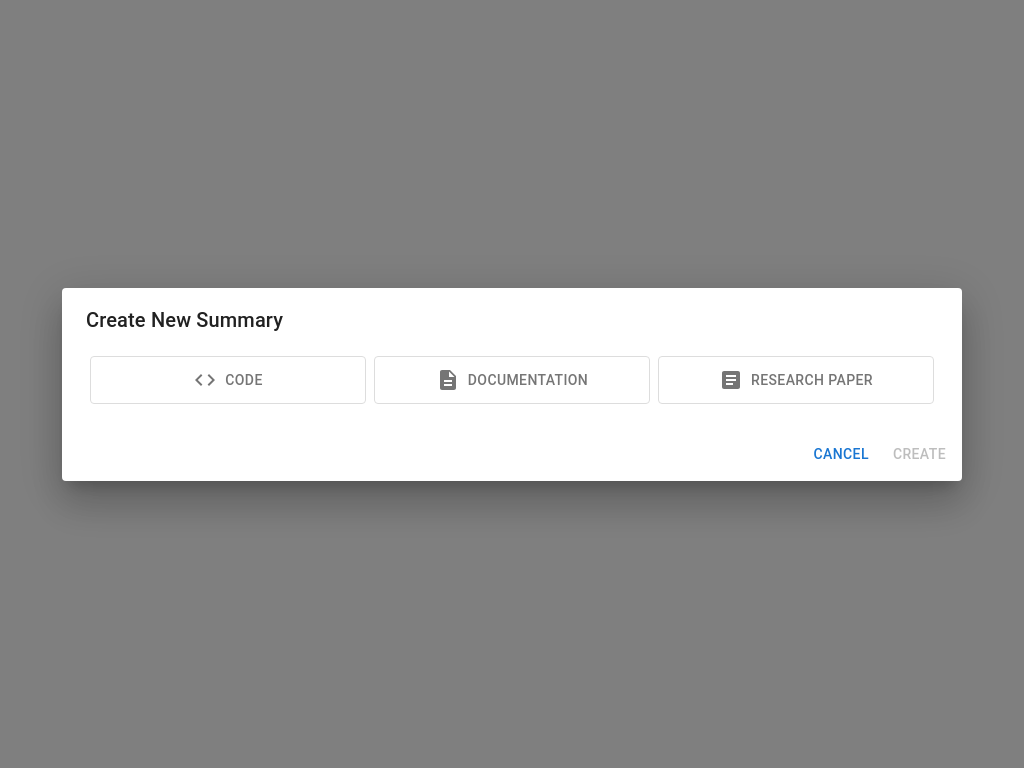
Test: NewSummaryDialog Form Submission › displays loading state during submission
The width and height of the screenshot is (1024, 768).
Fill form
Click the button "Code" at [228, 380], box [90,356,366,404]
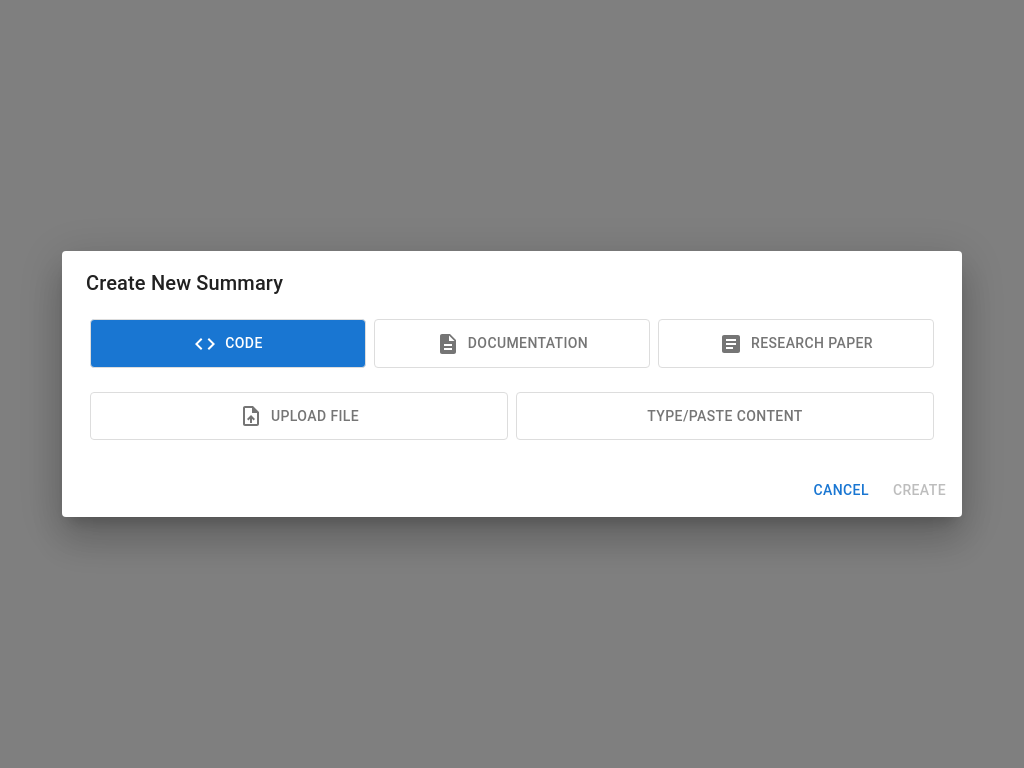
Click the button "Type/Paste Content" at [725, 416], box [516,392,934,440]
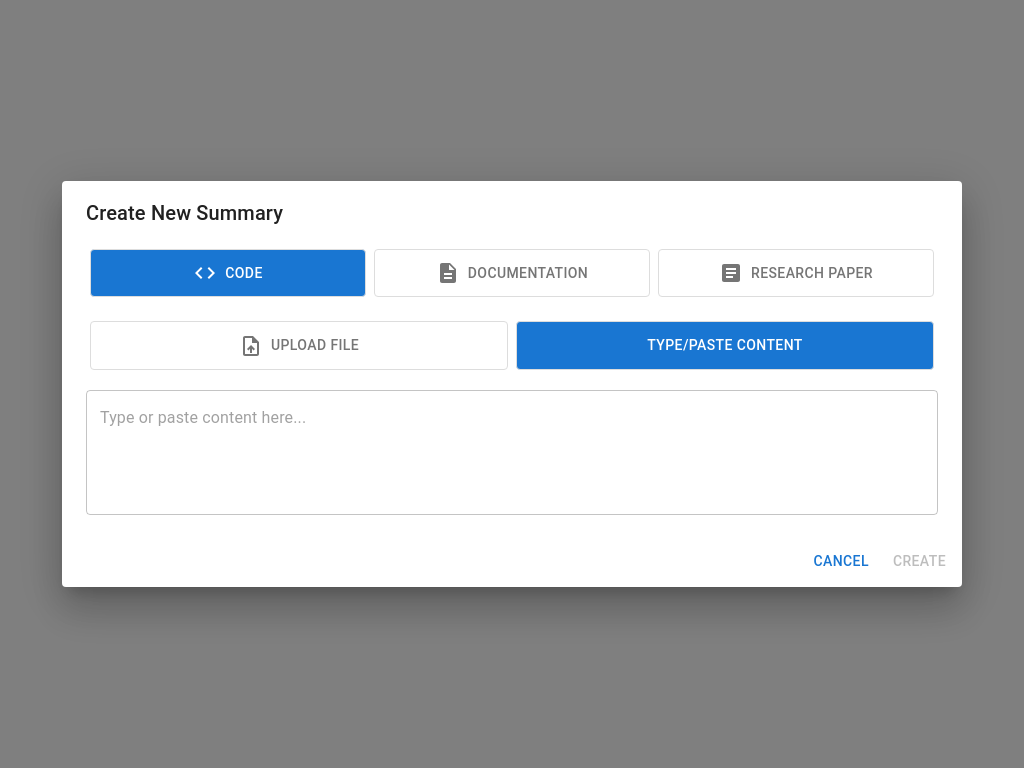
Type "Test content" into the text box with placeholder "Type or paste content here..." at [512, 452], box [100,406,924,498]
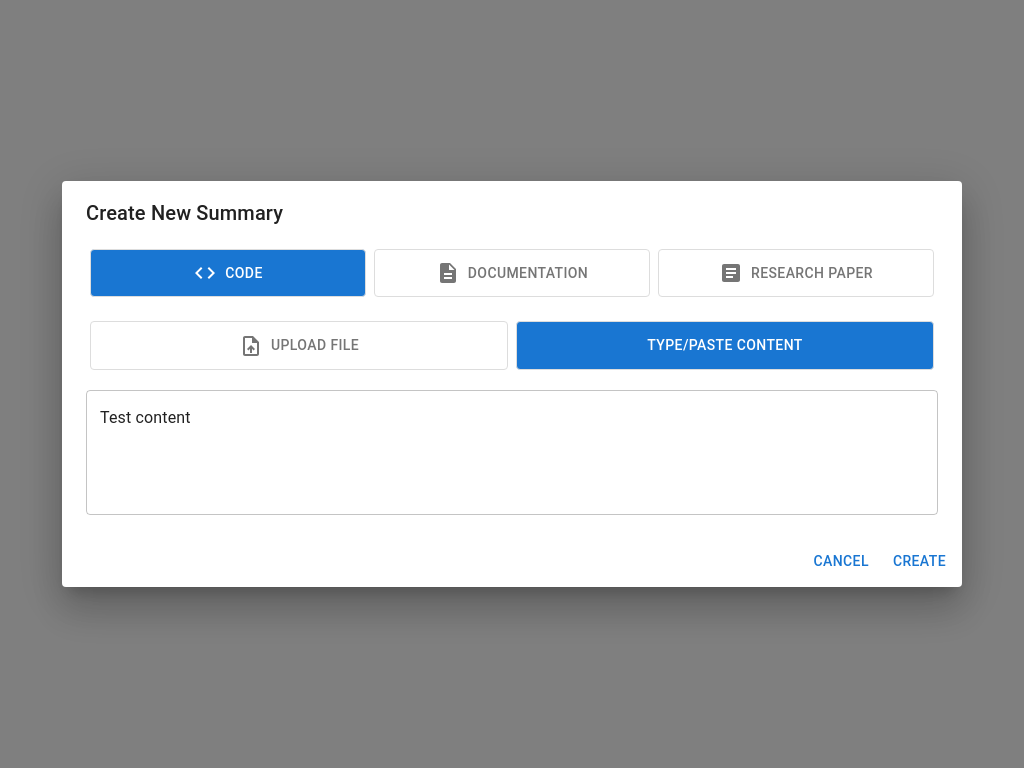
Click the button "Create" at [919, 561], box [885,543,954,579]
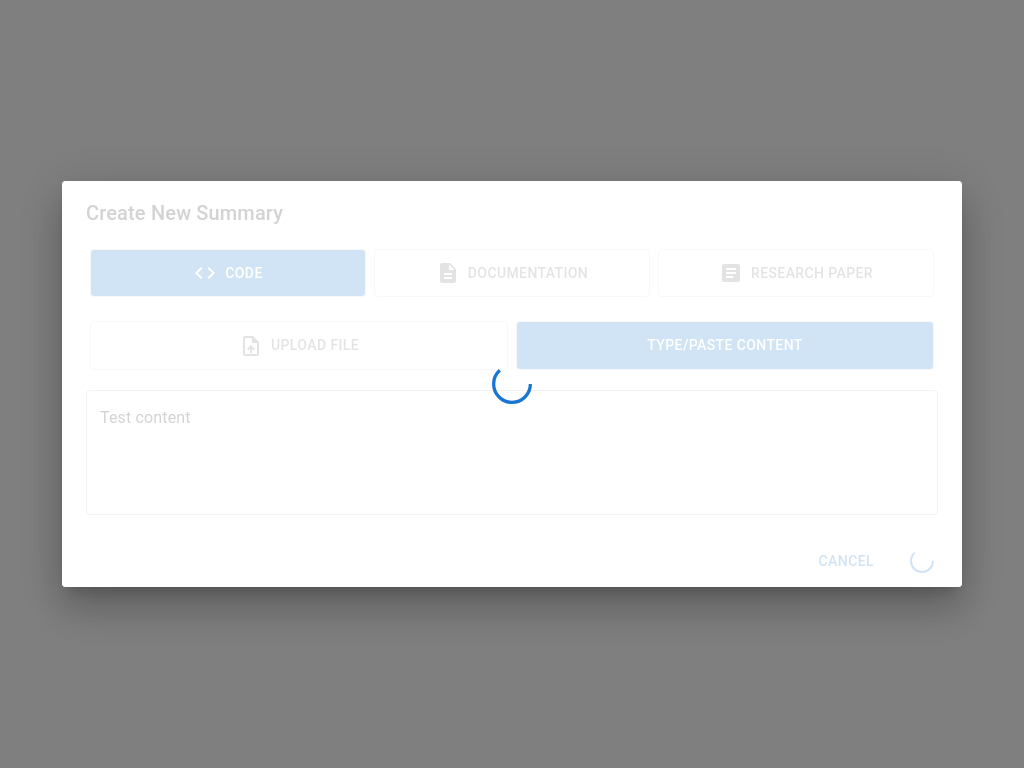
Expected: the progress indicator is shown, [492,364,532,404]
